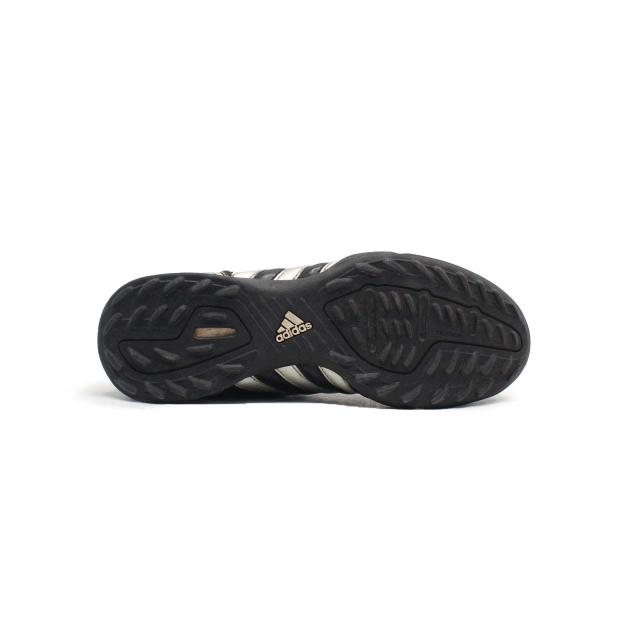outersole: (99, 255, 528, 410)
